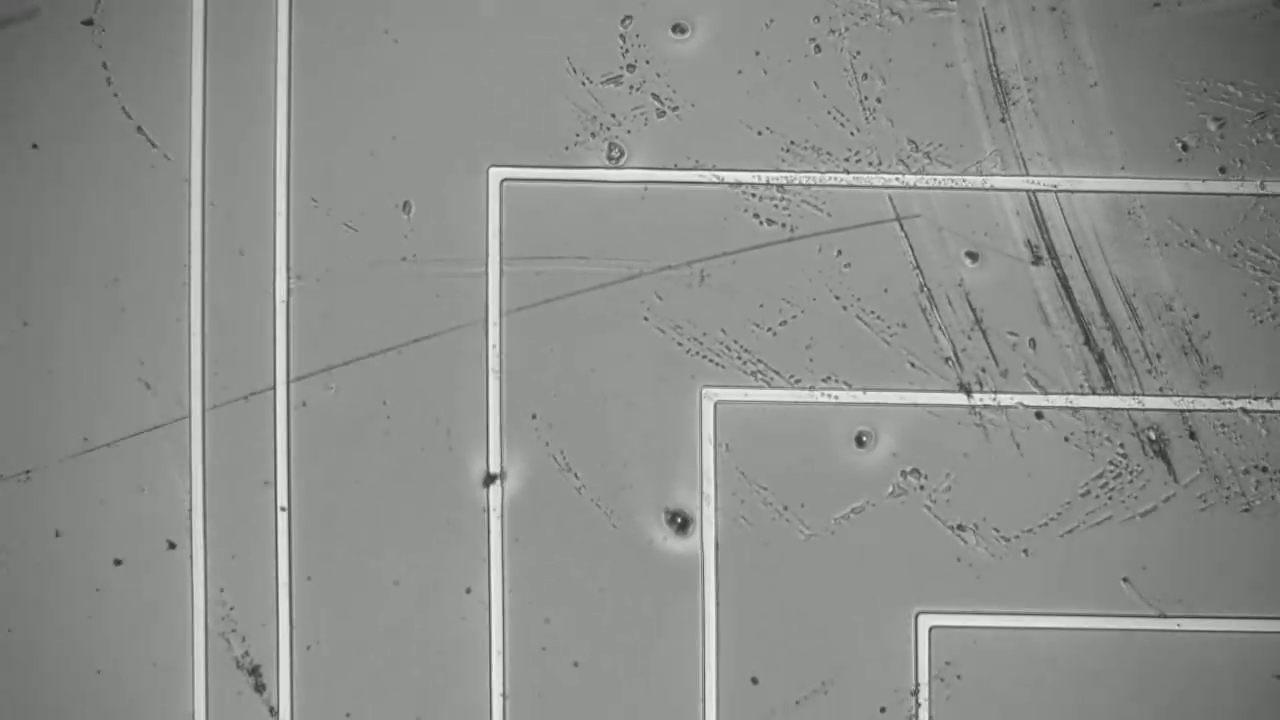scratch: (25, 211, 940, 481), (970, 20, 1185, 470), (880, 198, 992, 413), (67, 7, 171, 171)
stains_enbedded: (477, 458, 525, 507)
